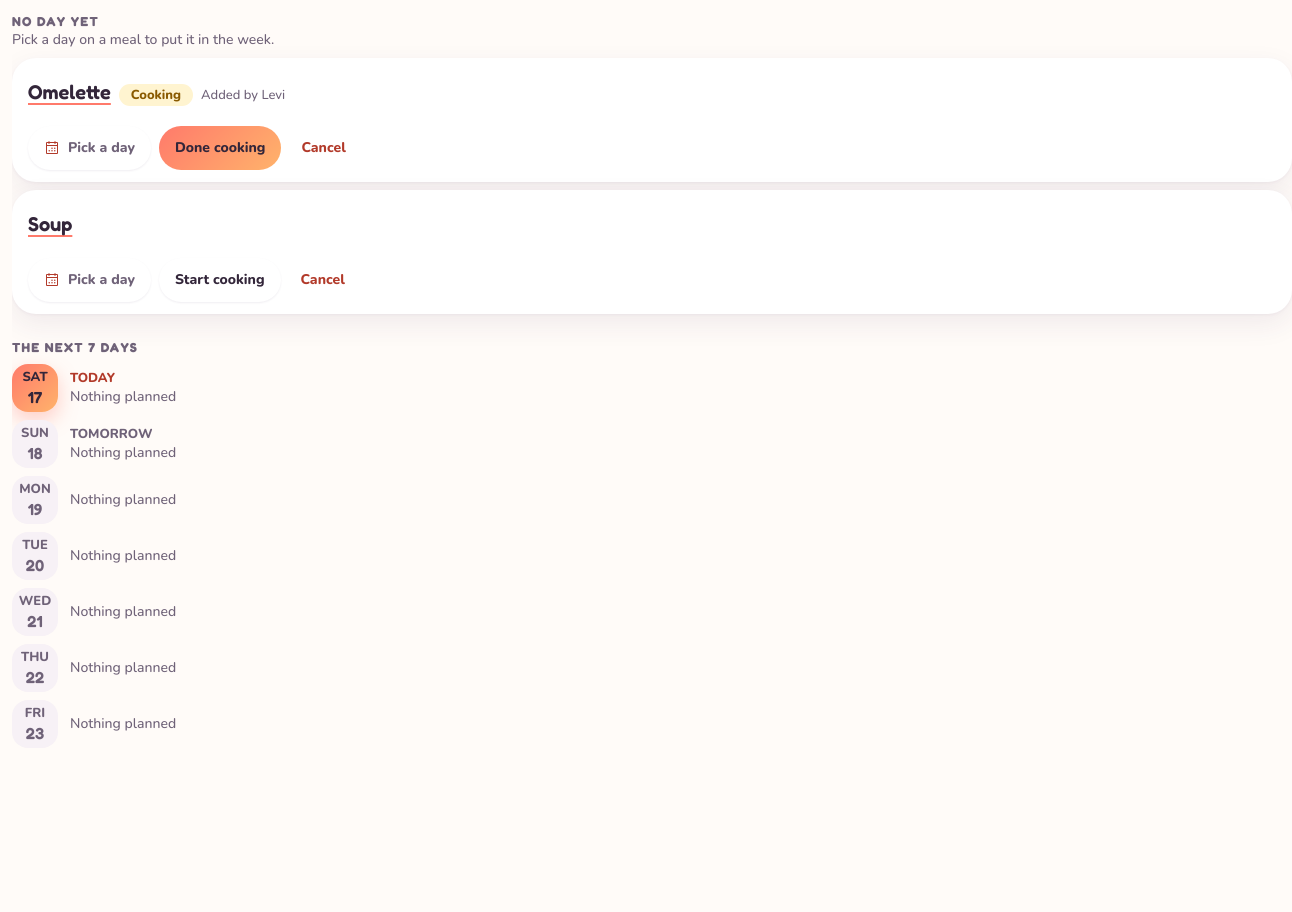
Test: Meal plan widget › Cancel leaves 'cancelled · Undo' in its place; Undo puts it back
Click the button with aria-label "Cancel Soup" at (323, 280), box [288,258,357,302]
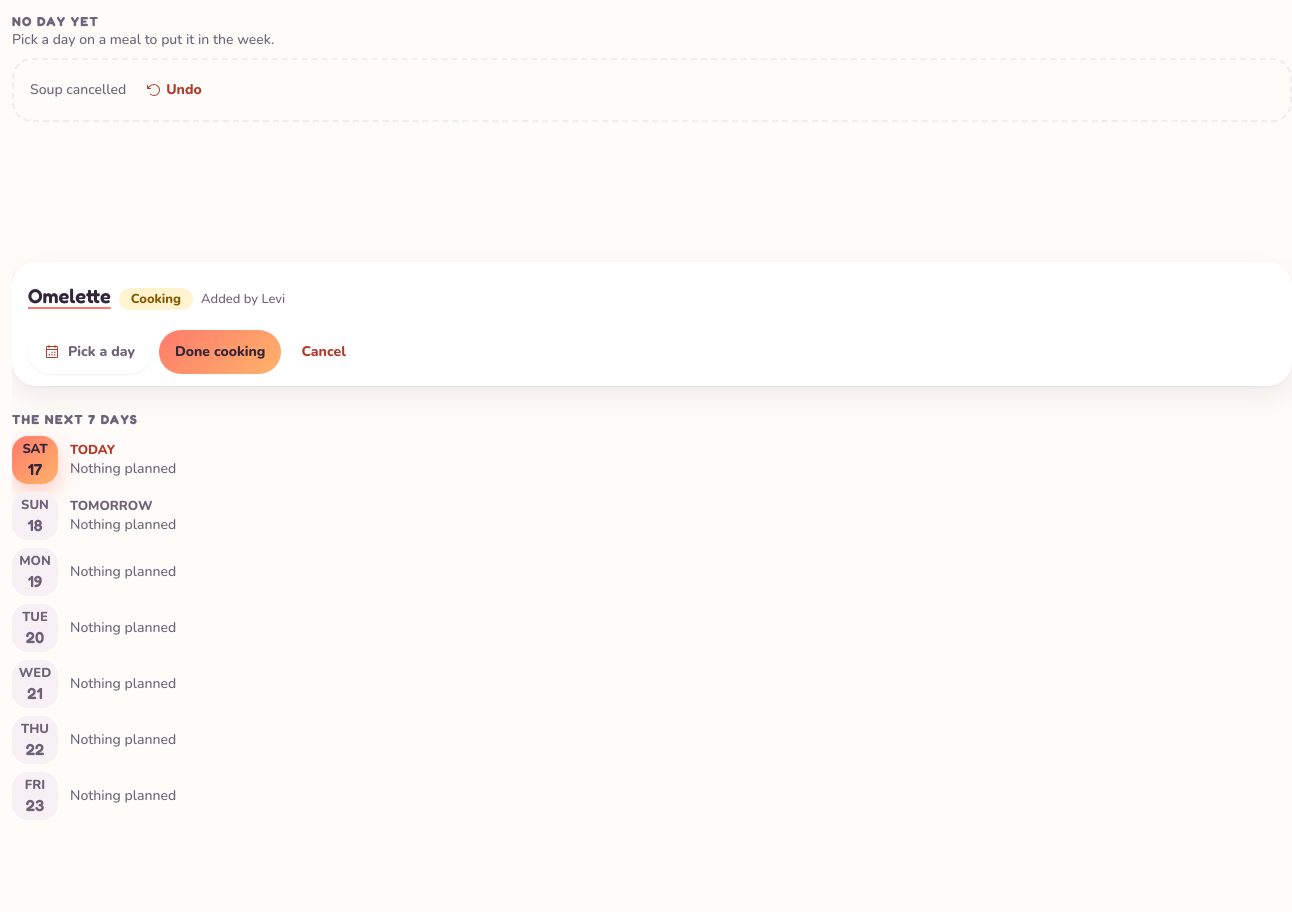
Result: the text "Soup cancelled" is shown at [30,80,126,100]
Click the button with aria-label "Undo: cancelled Soup" at (174, 90), box [134,68,214,112]
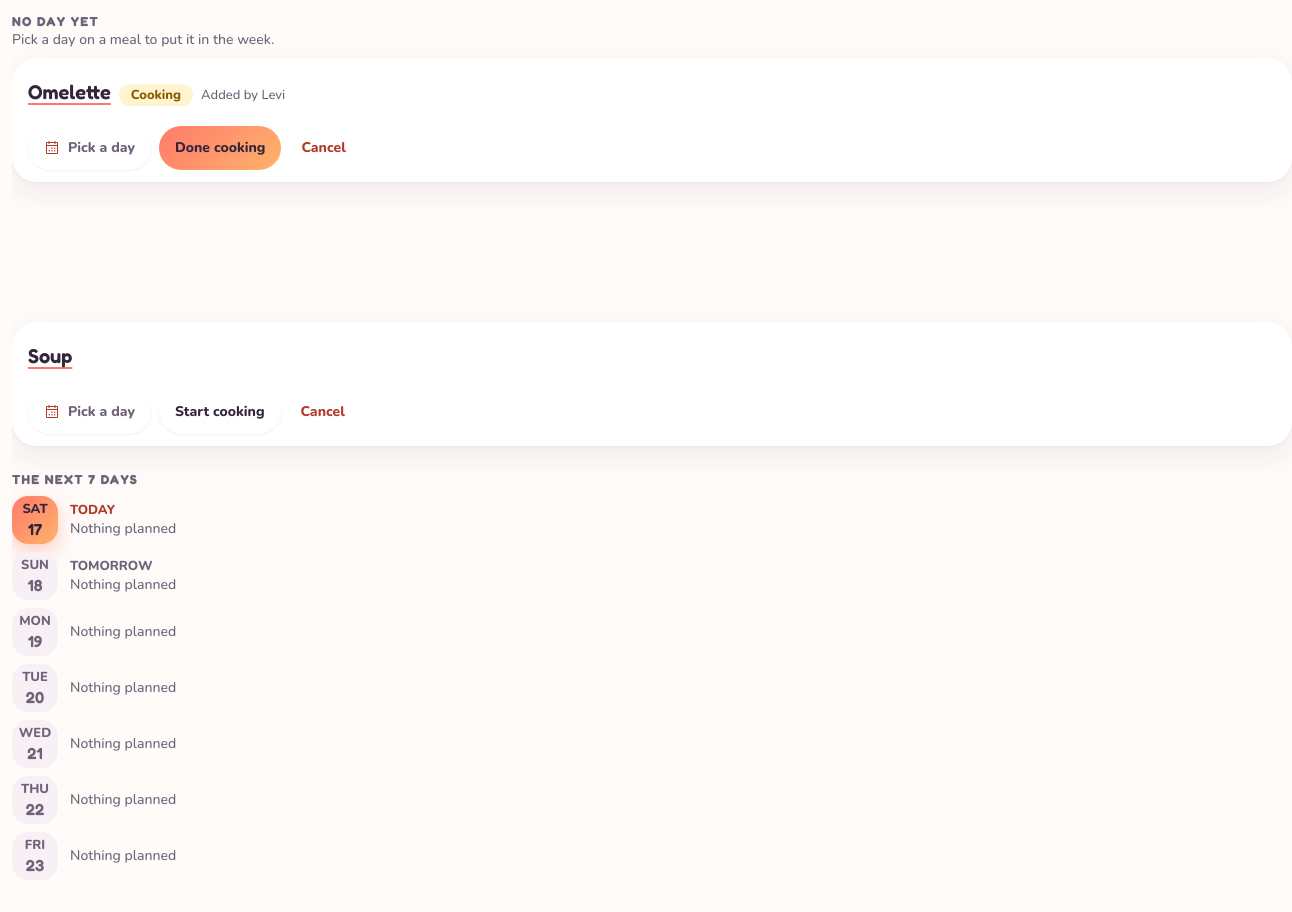
Result: the button with aria-label "Start cooking Soup" is shown at [159,390,280,434]
